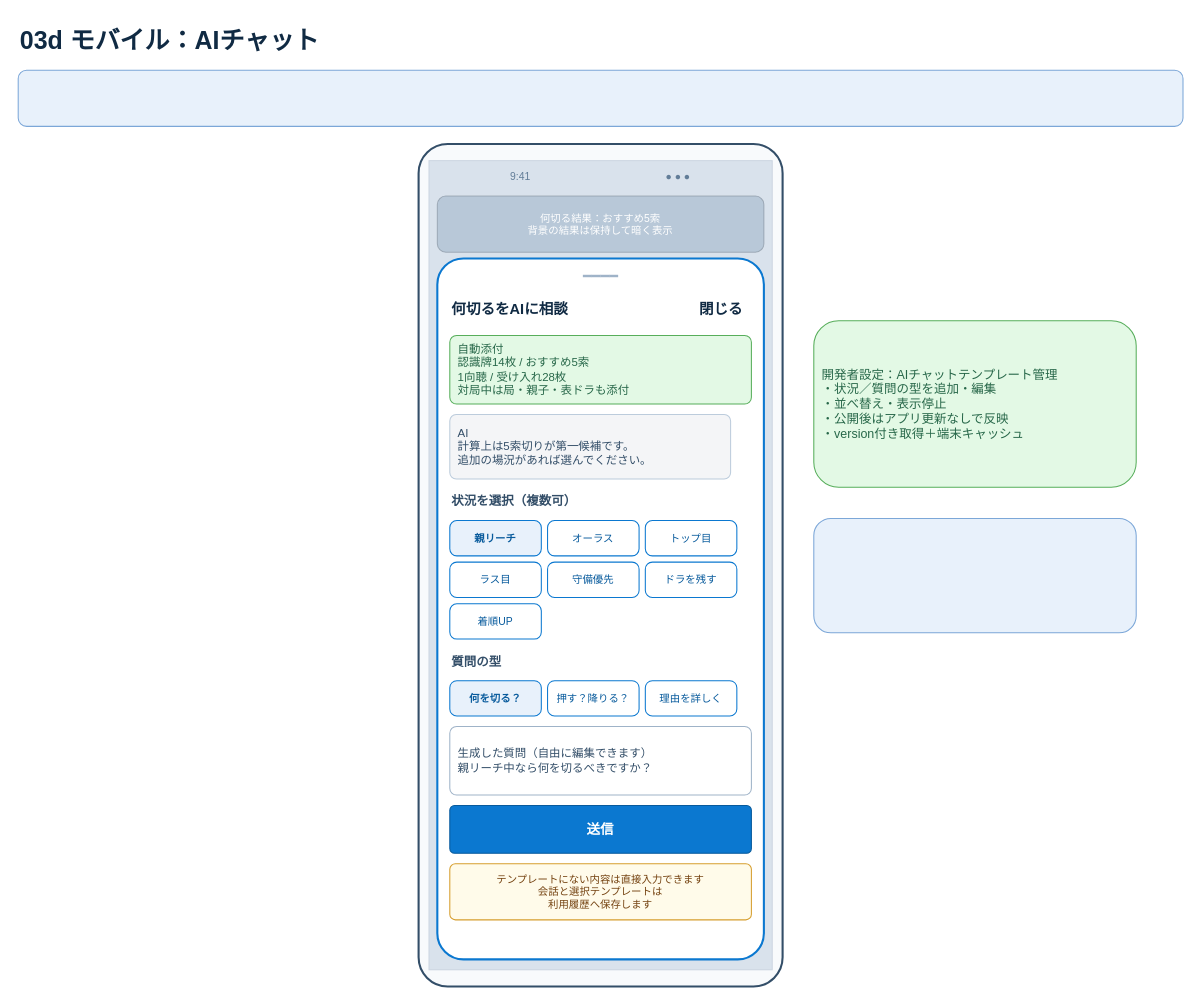
The diagram is 1201 pixels wide and 1005 high, and some of its shapes have lost their labels. The shapes that lost their labels are listed below. From the top down, each one's box as (x1, y1, x2, y2) in pixels, then its label:
(17, 69, 1183, 126): 結果画面から下からせり上がる大きなモーダルとして表示。状況テンプレートと質問の型を組み合わせ、自由編集して送信する。
(813, 517, 1136, 633): シートを下へスワイプ／閉じるで結果へ戻る キーボード表示中は全画面まで拡張 AI失敗時も元の計算結果は失わない
